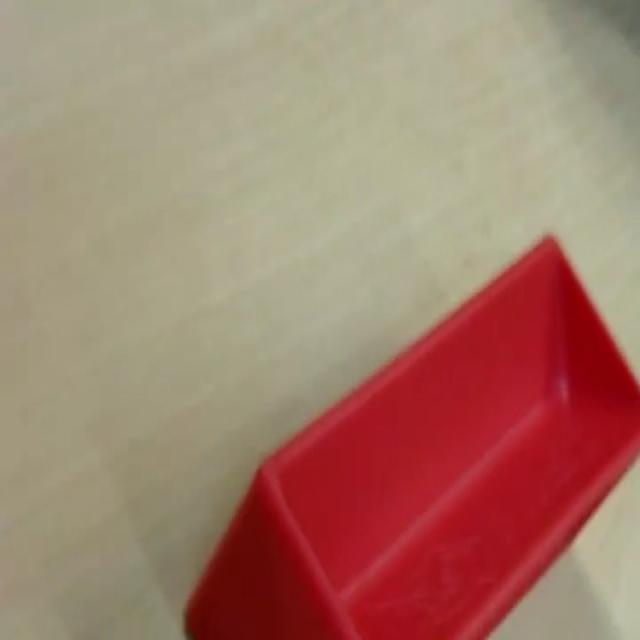red_block: (182, 231, 638, 637)
